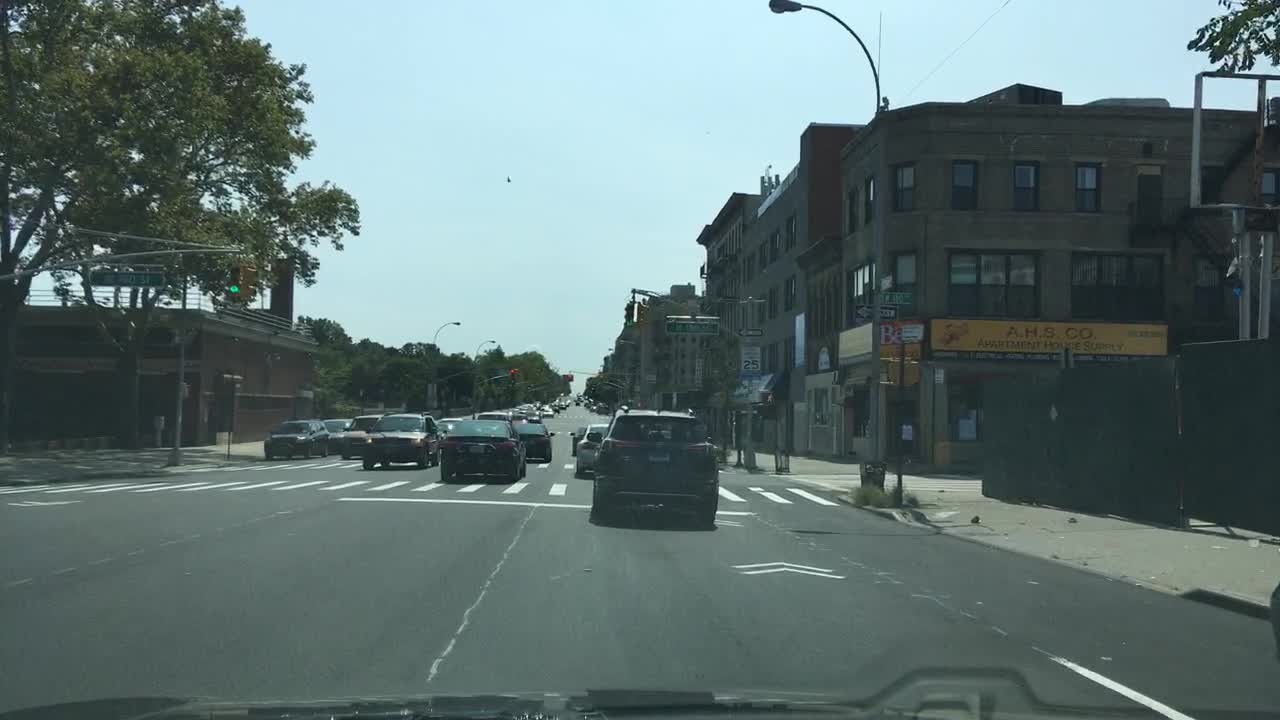car: (590, 402, 721, 531), (438, 417, 530, 483), (361, 409, 443, 470), (263, 417, 332, 462), (508, 421, 556, 463), (339, 414, 379, 461), (574, 424, 611, 474), (321, 417, 355, 455), (435, 417, 462, 443), (567, 425, 588, 457), (476, 410, 514, 422), (524, 410, 543, 423), (512, 402, 532, 414), (594, 402, 610, 416), (547, 402, 567, 412), (560, 394, 572, 406), (583, 399, 594, 410), (532, 401, 542, 410), (555, 394, 564, 402), (574, 399, 581, 408)
traffic light: (240, 265, 259, 299), (227, 266, 240, 302), (759, 389, 777, 407), (637, 300, 650, 324), (625, 302, 633, 327), (566, 374, 574, 381), (509, 367, 518, 373)
traffic sign: (88, 270, 165, 287), (885, 356, 920, 384), (853, 303, 898, 323), (664, 320, 719, 334), (740, 345, 762, 369), (880, 292, 914, 305), (737, 327, 764, 336)
